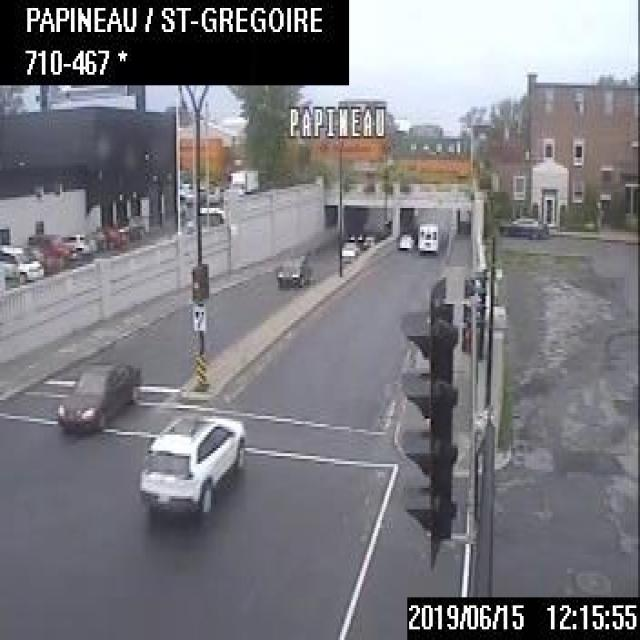vehicle: (137, 411, 246, 512), (56, 360, 131, 424), (0, 239, 44, 281), (27, 232, 74, 266), (274, 251, 311, 285), (496, 212, 550, 234), (54, 227, 90, 258), (416, 218, 436, 250), (394, 230, 414, 251), (342, 240, 358, 256)
